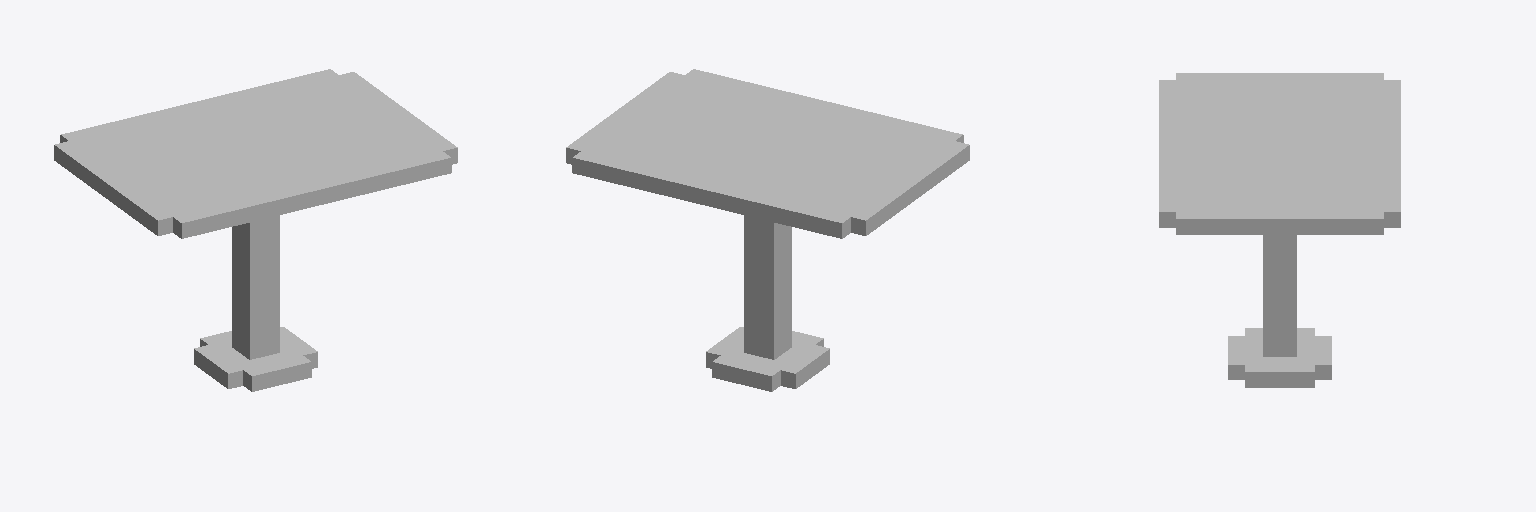
Rendered from table.obj.
3 renders of one model, left to right at view 1: azimuth 30°, elevation 25°; view 2: azimuth 150°, elevation 25°; view 3: azimuth 270°, elevation 25°, orthographic.
Size of the model in its own units: 20 by 14 by 14.